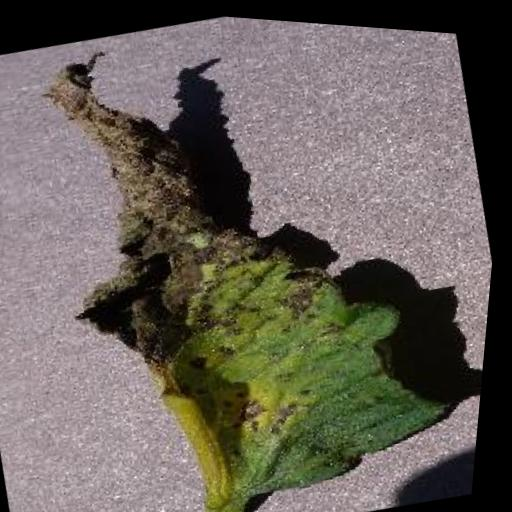Septoria: (0, 2, 497, 512)
